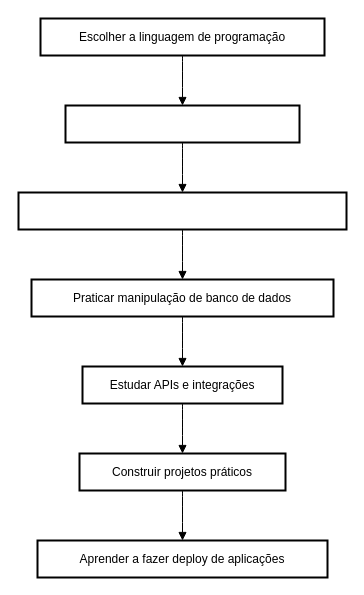
The diagram is 364 pixels wide and 595 high, and some of its shapes have lost their labels. Here are the shapes that lost their labels. From the top down, the centre of each, then its label:
At (182,123): "Estudar lógica de programação".
At (182,210): "Entender conceitos de orientação a objetos".
